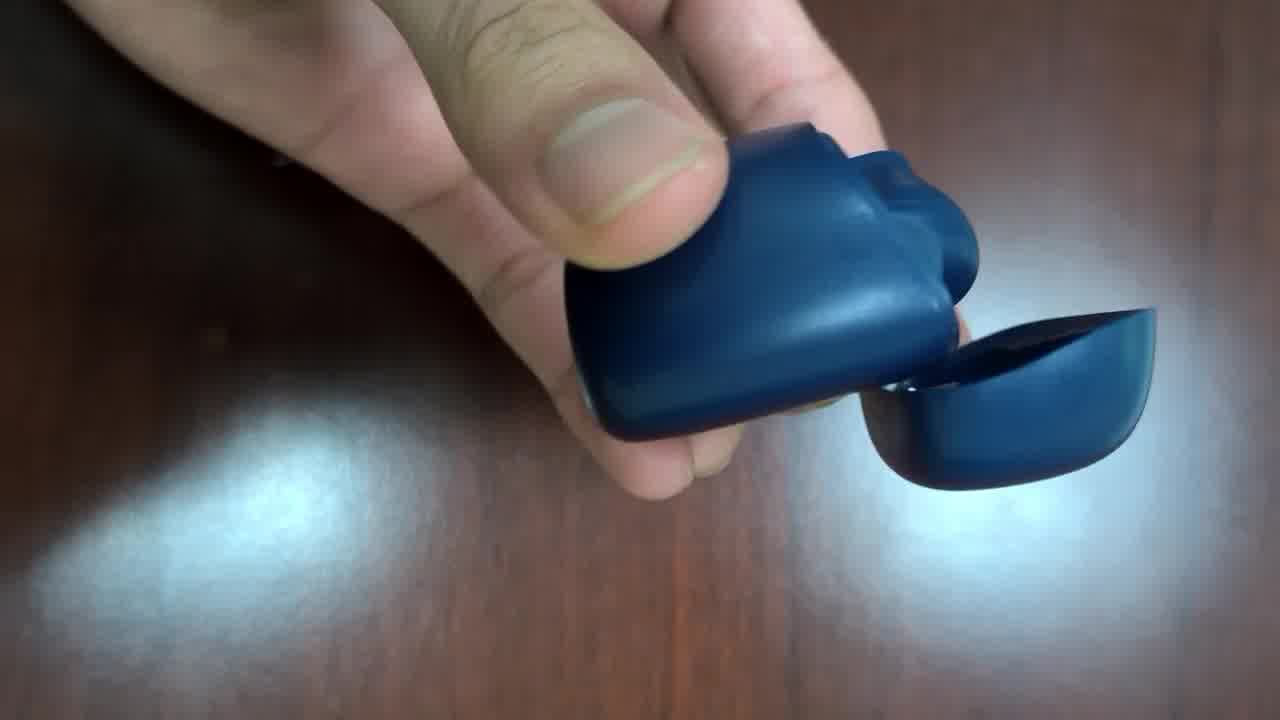Case: (563, 122, 1153, 489)
